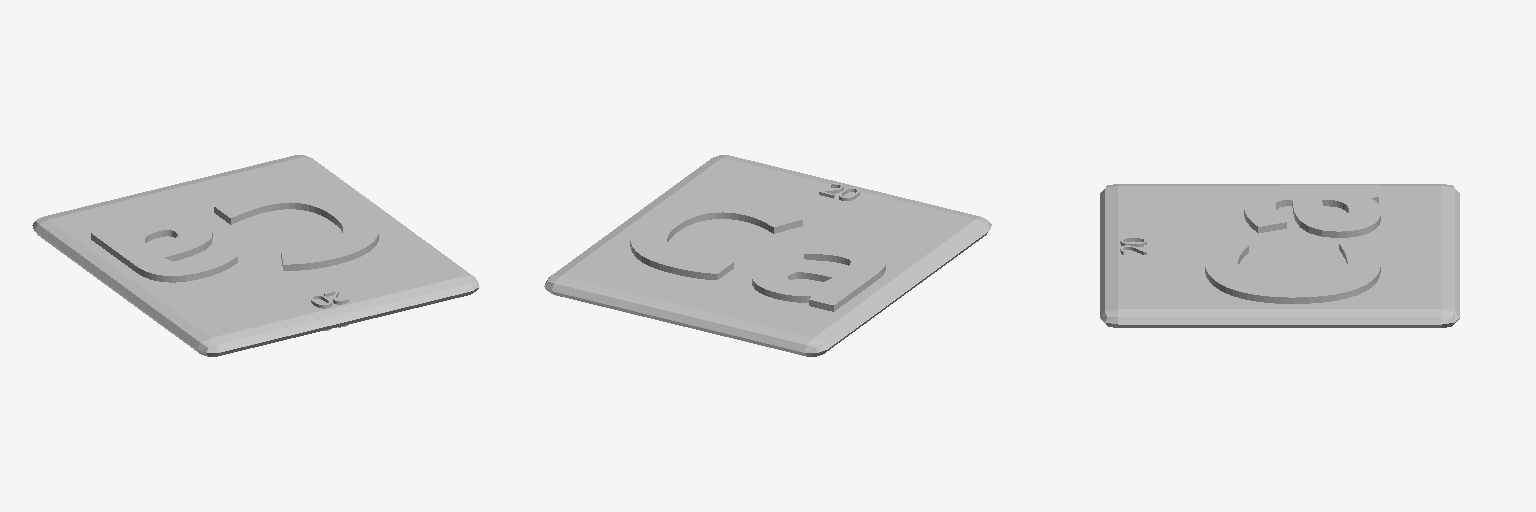
The picture shows the model from 3 angles: view 1: azimuth 30°, elevation 25°; view 2: azimuth 150°, elevation 25°; view 3: azimuth 270°, elevation 25°; orthographic projection.
Parts seen in each view (by area): view 1: 163_Box_3, 162_Ca_-_a, 161_Ca_-_C; view 2: 163_Box_3, 161_Ca_-_C, 162_Ca_-_a; view 3: 163_Box_3, 161_Ca_-_C, 162_Ca_-_a.
Boxes of the visible parts, x1=… form: 163_Box_3: x1=32, y1=155, x2=479, y2=356; 162_Ca_-_a: x1=91, y1=216, x2=237, y2=282; 161_Ca_-_C: x1=214, y1=188, x2=378, y2=270; 163_Box_3: x1=544, y1=155, x2=991, y2=356; 161_Ca_-_C: x1=630, y1=198, x2=802, y2=279; 162_Ca_-_a: x1=752, y1=240, x2=885, y2=311; 163_Box_3: x1=1100, y1=184, x2=1459, y2=327; 161_Ca_-_C: x1=1205, y1=240, x2=1380, y2=303; 162_Ca_-_a: x1=1244, y1=185, x2=1380, y2=237.
Size of the model in its own units: 9 by 0.9 by 10.